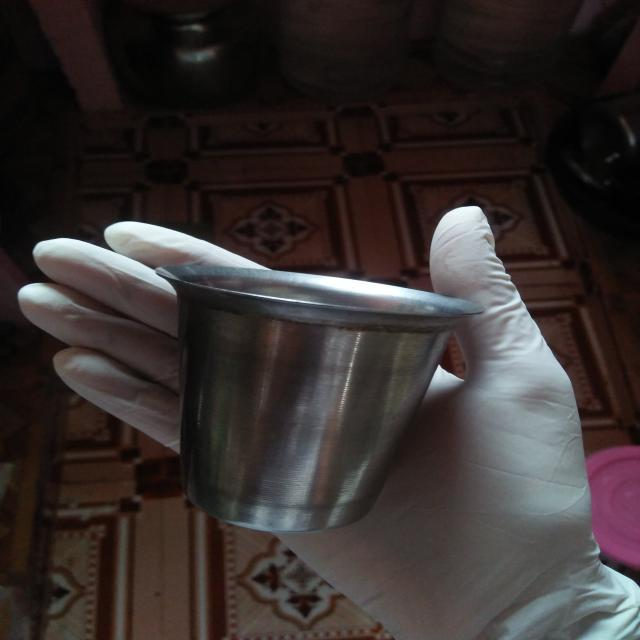glove_hand: (9, 203, 638, 640)
